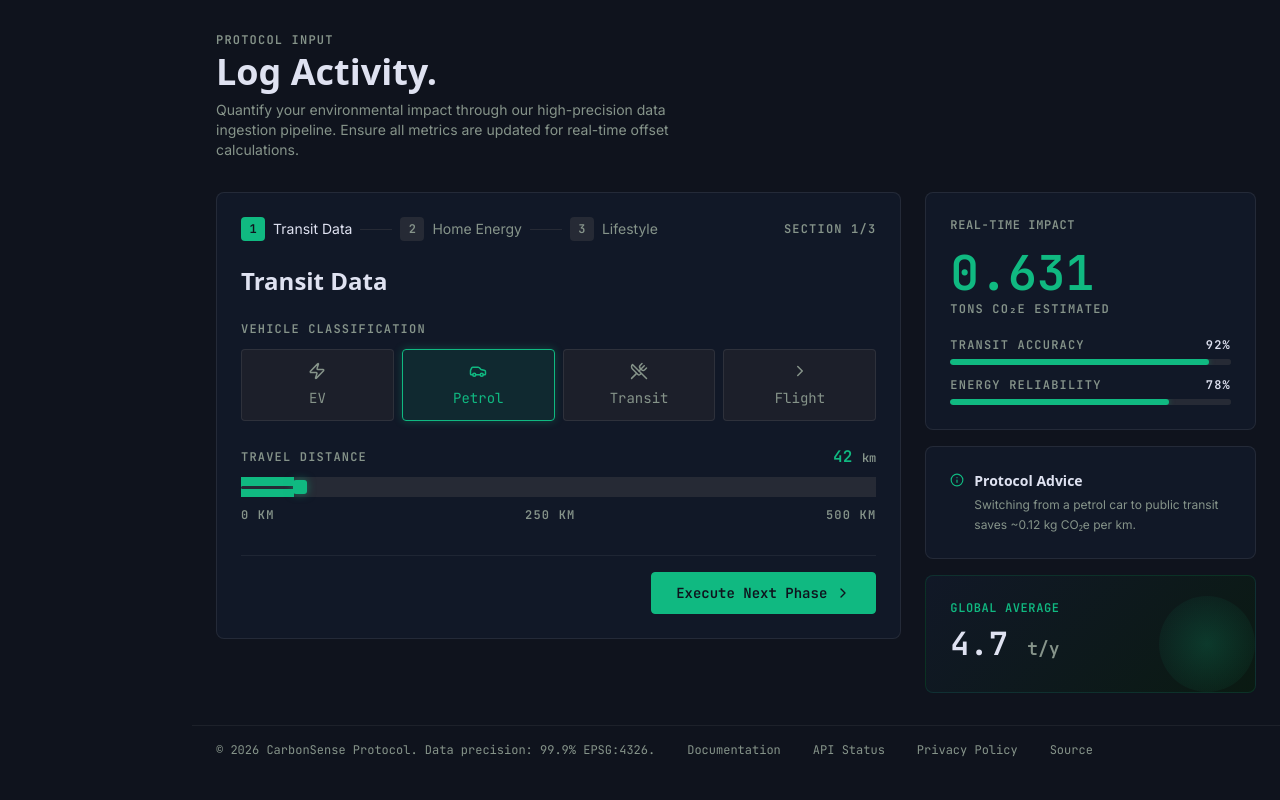
Test case: ActivityWizard — Transit slider integration › next phase button advances to step 2
What coordinates should you click on to do the following:
click the button "Execute Next Phase"
I would click on:
 (764, 593)
Its box is [651,572,876,614].
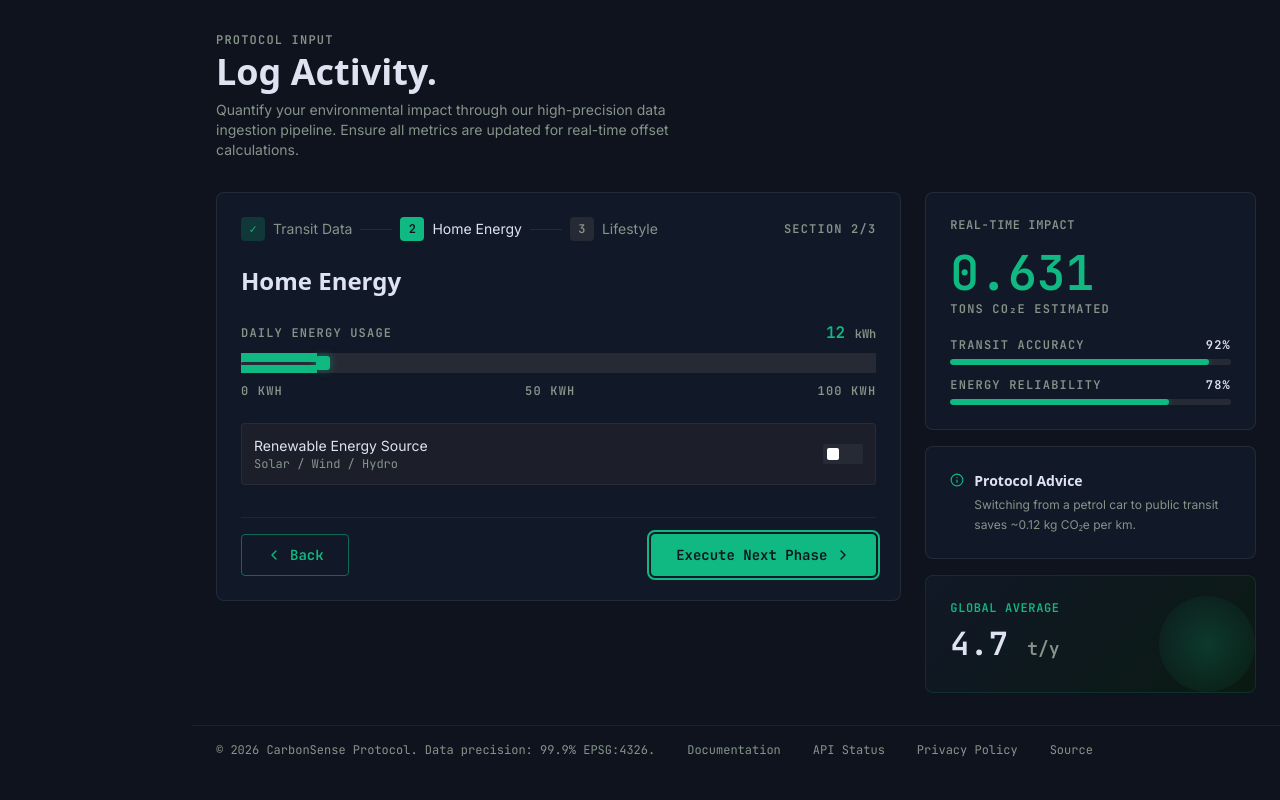
Now the heading "Home Energy" is shown, box [241,264,401,297]
